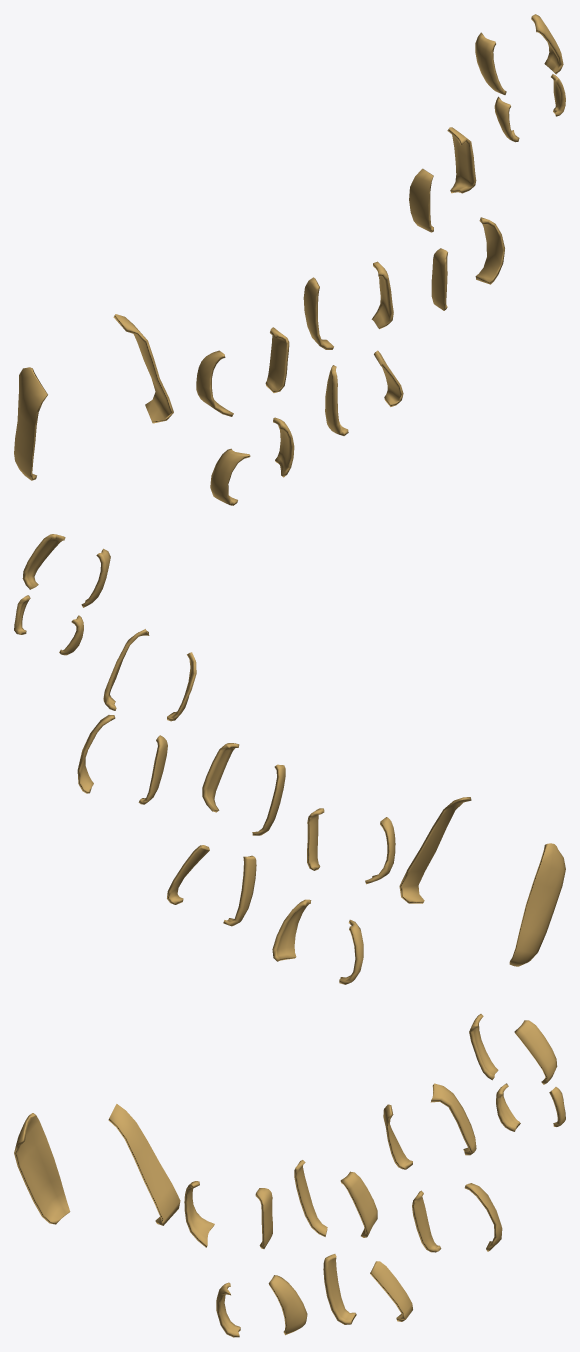
3 renders of one model, top to bottom at view 1: azimuth 30°, elevation 25°; view 2: azimuth 150°, elevation 25°; view 3: azimuth 330°, elevation 25°, orthographic. The views are drawn at different scales.
Parts seen in each view (by area): view 1: 左侧足趾间关节侧副韧带; view 2: 左侧足趾间关节侧副韧带; view 3: 左侧足趾间关节侧副韧带.
Part boxes in pixels (left/top/right/bottom): 左侧足趾间关节侧副韧带: left=14, top=14, right=565, bottom=505; 左侧足趾间关节侧副韧带: left=14, top=534, right=565, bottom=984; 左侧足趾间关节侧副韧带: left=14, top=1014, right=565, bottom=1337.
Bounding box in the file's own units: 0.115 × 0.0802 × 0.0136.
